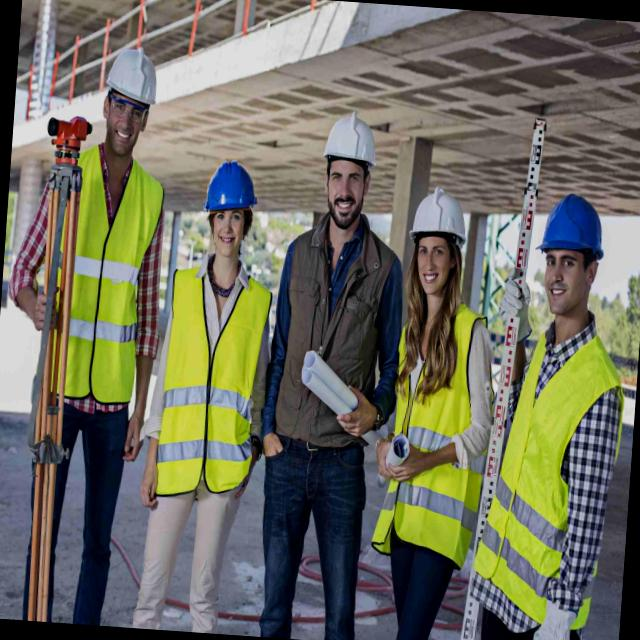goggles: (106, 91, 148, 129)
helmet: (92, 36, 166, 120), (536, 194, 615, 268), (313, 105, 388, 178), (196, 153, 266, 226), (404, 182, 477, 252)
no-goggles: (318, 167, 372, 192), (212, 205, 255, 232), (544, 253, 592, 274), (412, 242, 452, 262)
no-vest: (272, 223, 403, 476)
vest: (496, 324, 634, 638), (39, 150, 162, 406), (385, 300, 501, 568), (148, 258, 272, 504)
